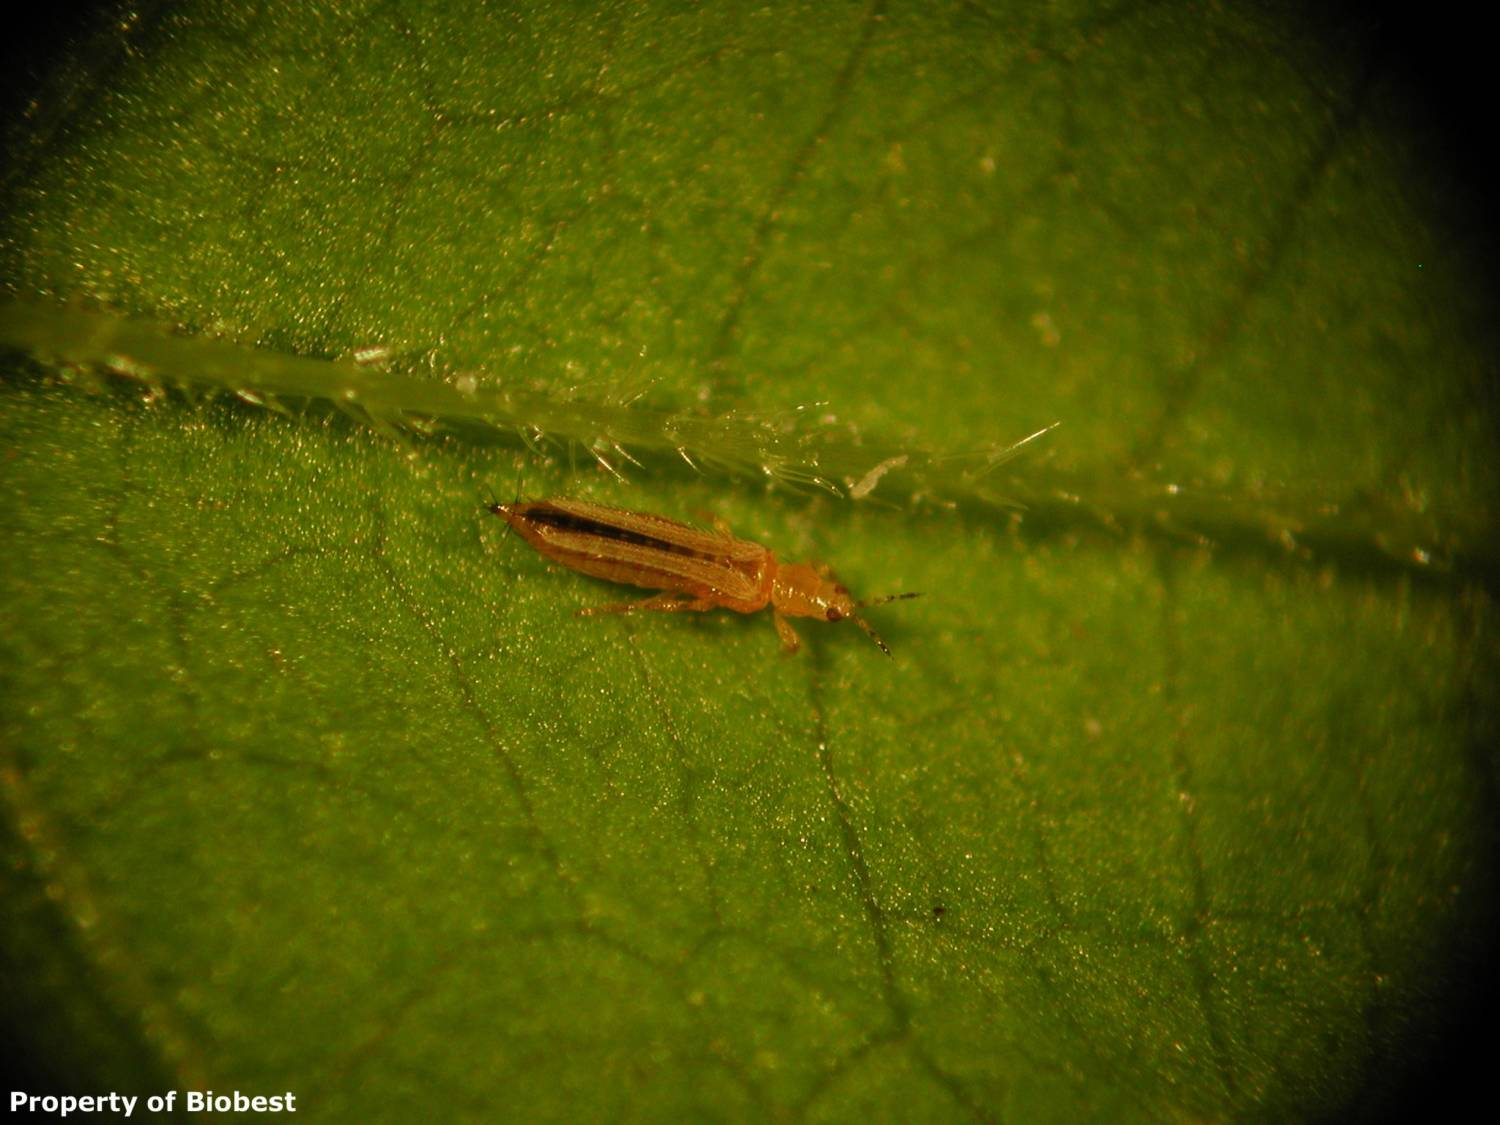Thrips: (479, 479, 920, 674)
